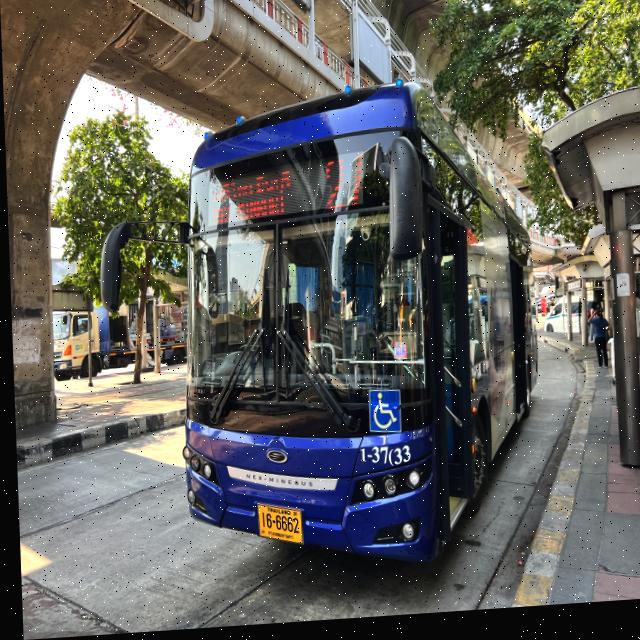Bus Line Number: (317, 153, 370, 214)
Bus Side Number: (351, 443, 410, 475)
Destination Sign: (204, 171, 295, 229)
TSB-Bus: (179, 89, 533, 572)
